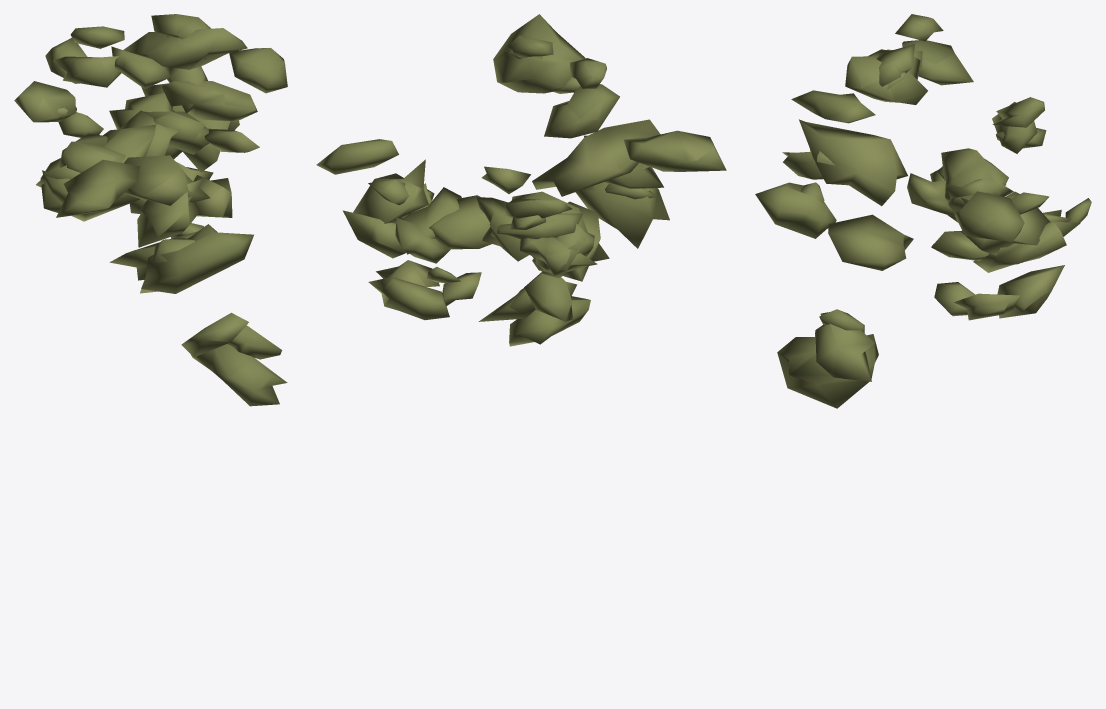
File: baum-buche-3-fern.glb
3 views of the same model, side by side, from view 1: azimuth 30°, elevation 25°; view 2: azimuth 150°, elevation 25°; view 3: azimuth 270°, elevation 25° (orthographic). The views are drawn at different scales.
Visible parts, largest first — view 1: Baum_Stamm.001; view 2: Baum_Stamm.001; view 3: Baum_Stamm.001.
Part boxes in pixels (<box>): Baum_Stamm.001: <box>14,14,287,406</box>; Baum_Stamm.001: <box>316,14,726,346</box>; Baum_Stamm.001: <box>755,14,1091,408</box>.
Bounding box in the file's own units: 10.9 × 21.54 × 10.56.
